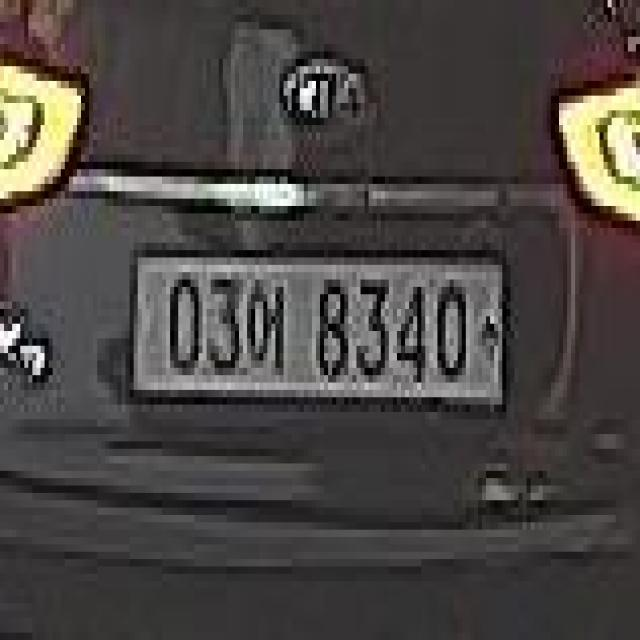illegal_plate: (129, 239, 509, 421)
